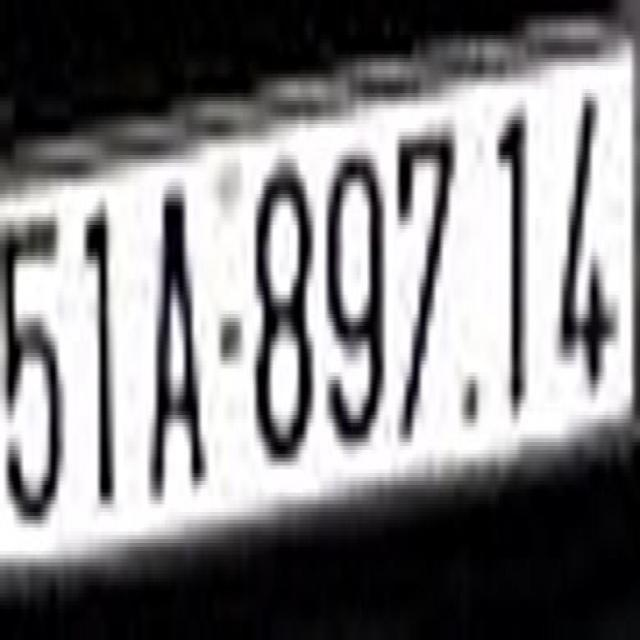1: (74, 182, 120, 528), (496, 89, 532, 431)
4: (552, 66, 612, 403)
5: (1, 194, 64, 532)
7: (392, 112, 457, 434)
8: (250, 120, 312, 477)
9: (322, 124, 385, 473)
A: (144, 151, 206, 524)
